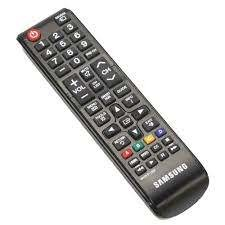remote control: (12, 9, 210, 220)
